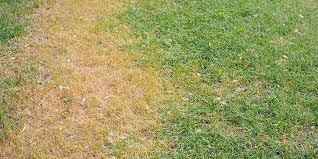Diseased_Leaves: (50, 40, 101, 102), (63, 112, 122, 151), (42, 10, 102, 33), (107, 60, 134, 98)
